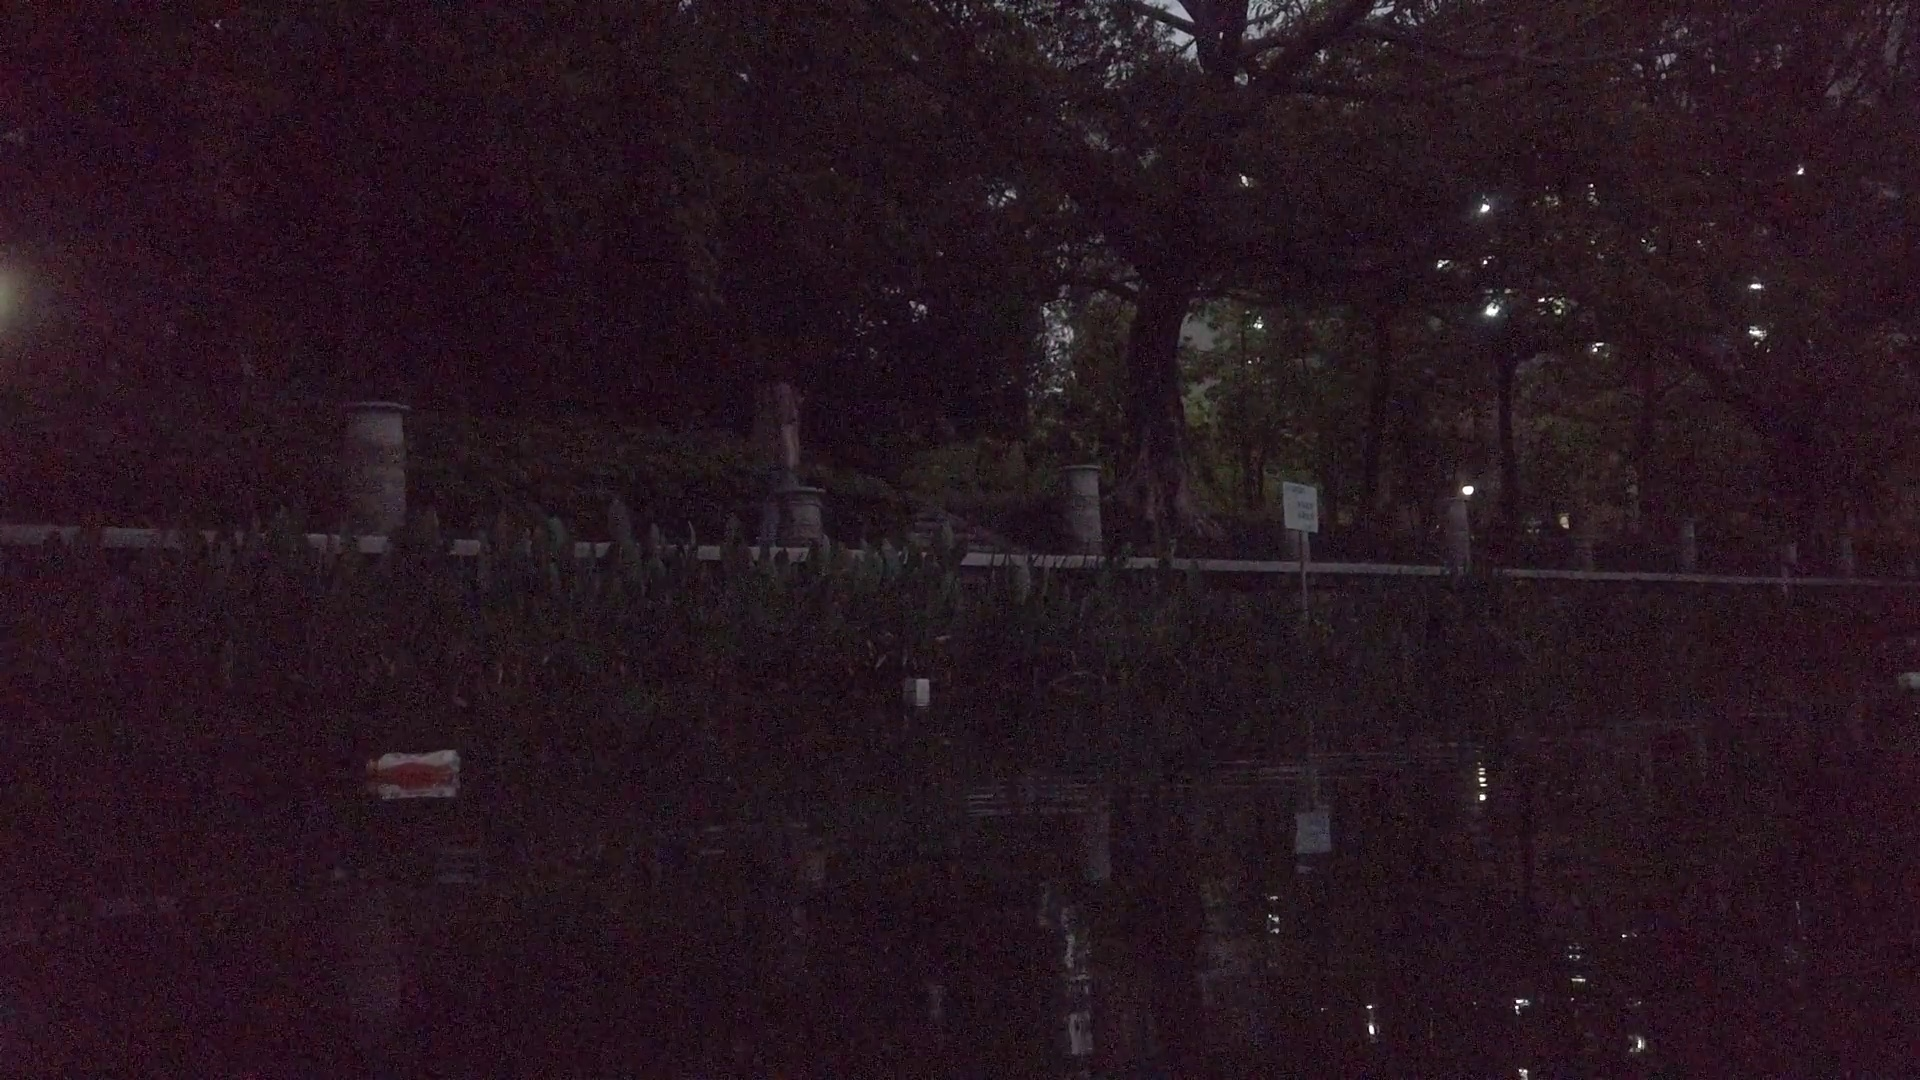bottle: (363, 750, 463, 787), (1898, 671, 1920, 687)
carton: (901, 678, 930, 698)
